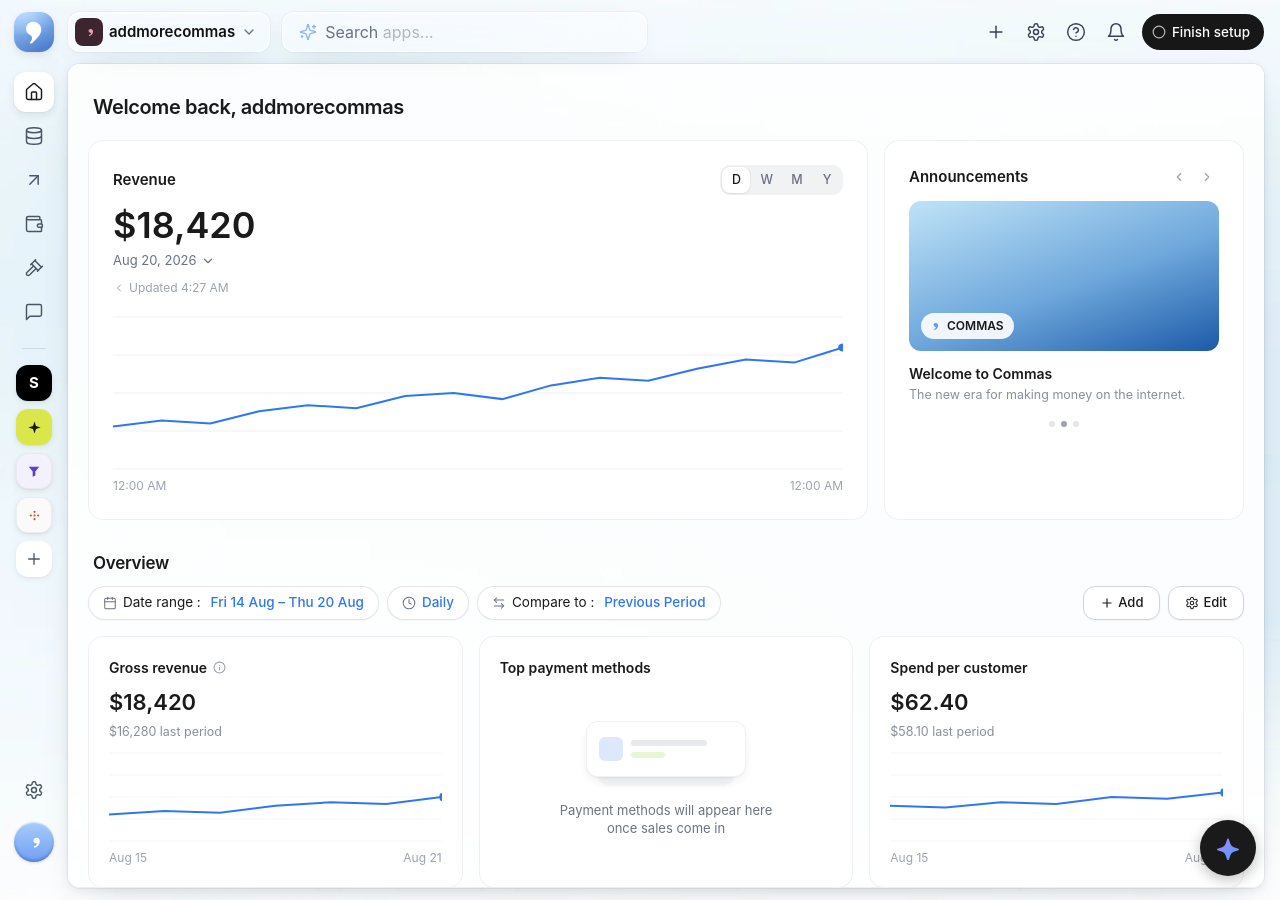
unified conversation model › dispute chat: create/open, starter actions, reopen, context isolation › opening a dispute with no existing investigation shows dispute-specific starter actions, not global chat history
Click the button named "Resolution Center" at (34,268), box [14,248,54,288]
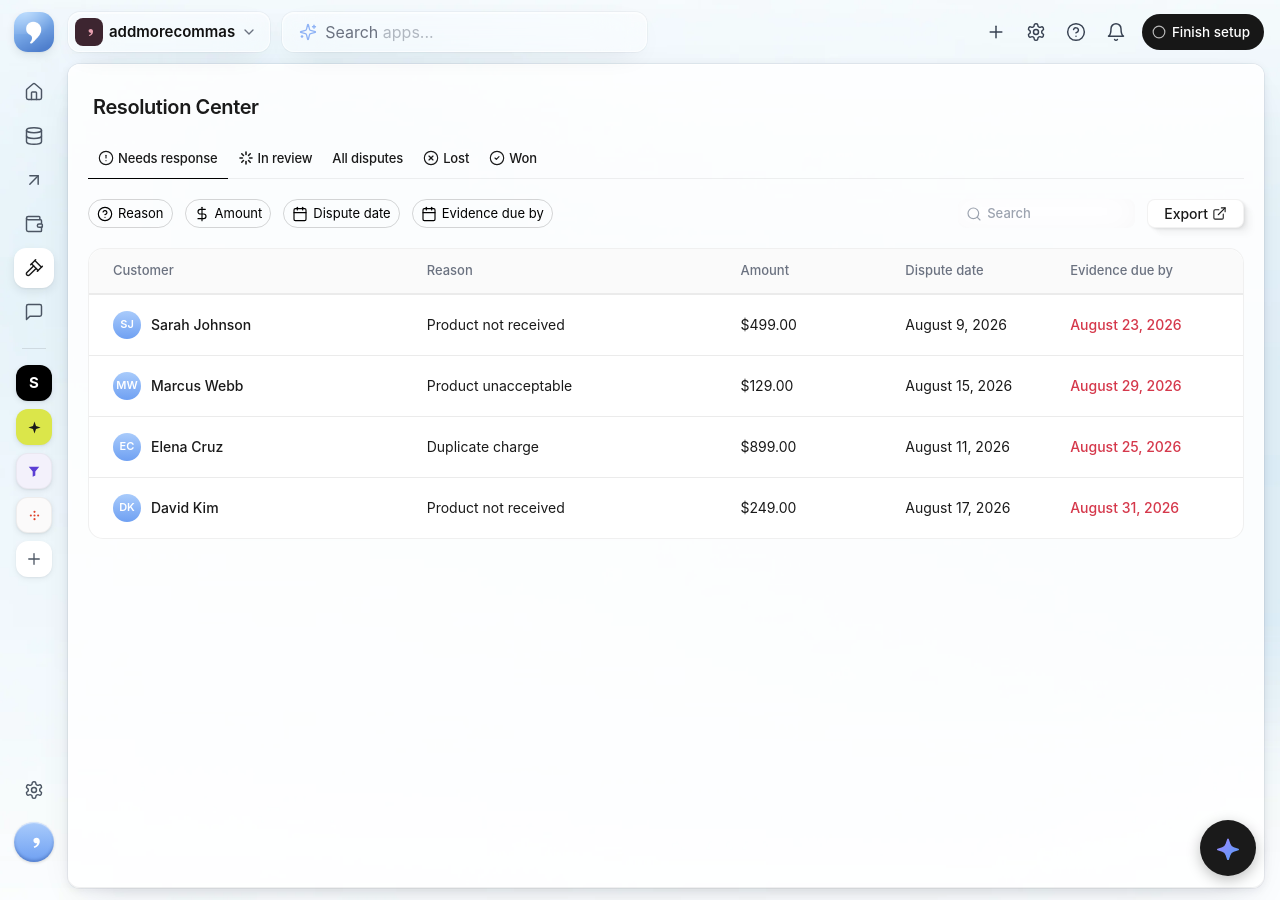
Click the text "Sarah Johnson" at (201,324), box [151,314,251,335]
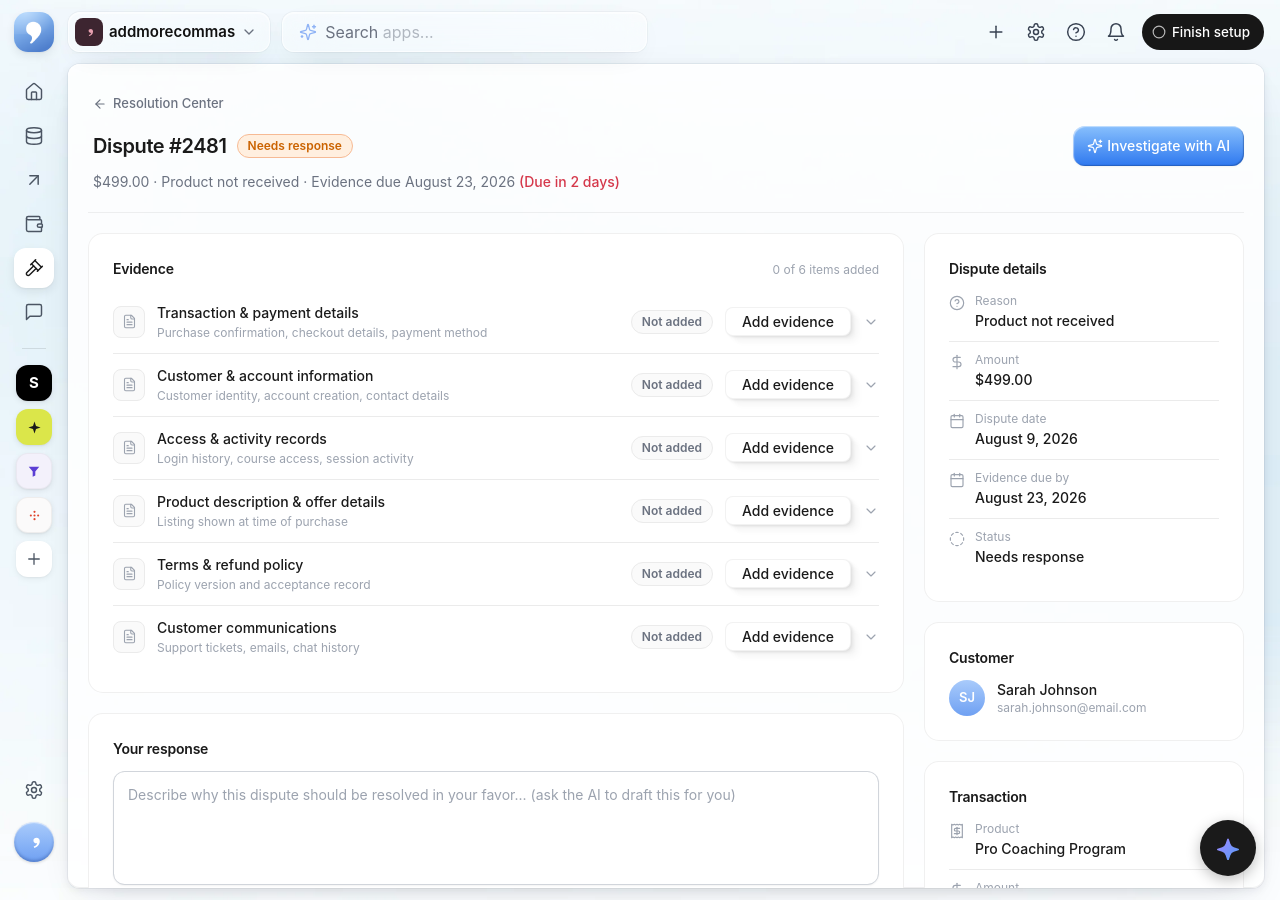
Click the button "Investigate with AI" at (1159,146), box [1073,126,1244,166]
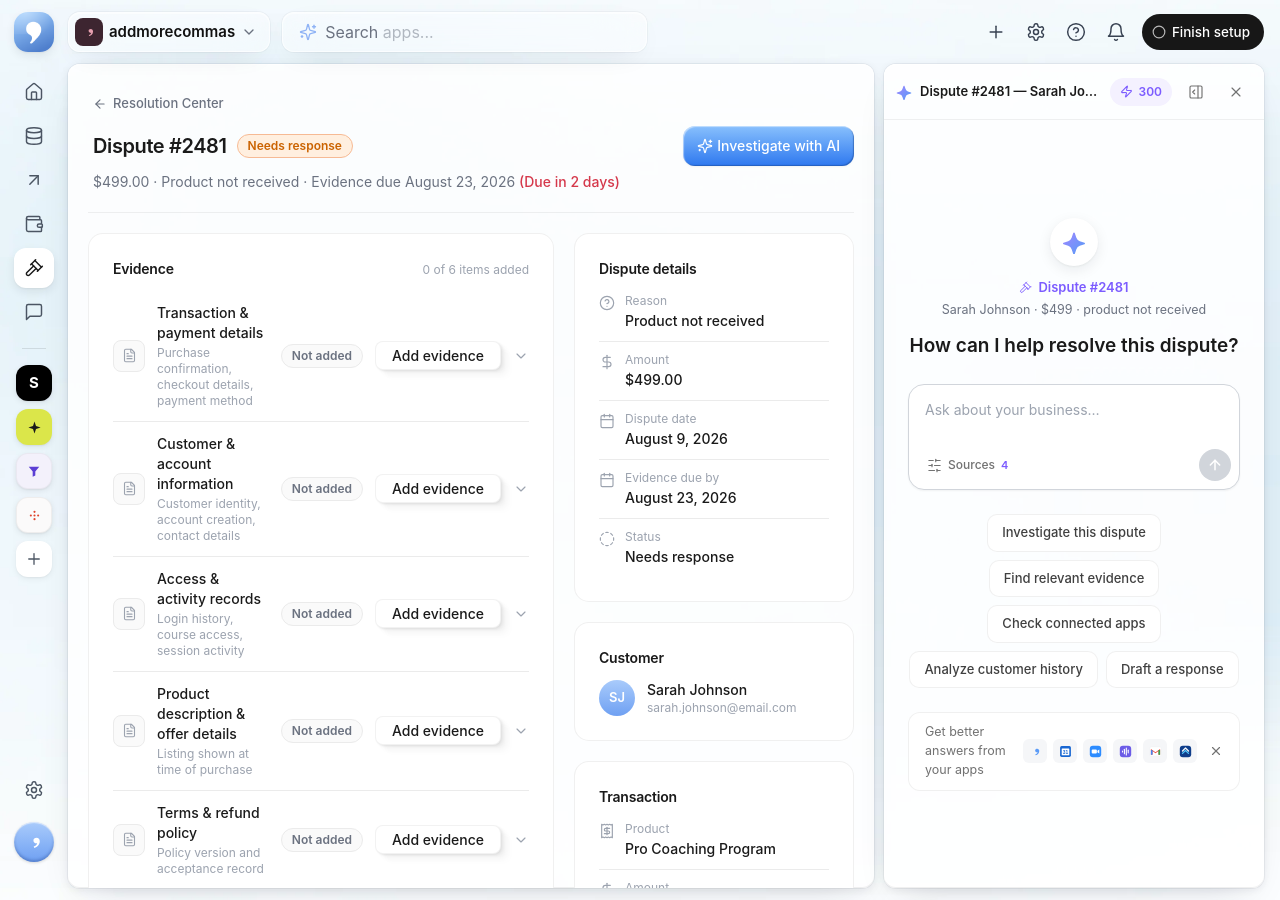
Expected: the button "Investigate this dispute" is shown, [987,514,1161,552]
Expected: the button "Find relevant evidence" is shown, [989,560,1159,597]
Expected: the button "Check connected apps" is shown, [987,605,1161,643]
